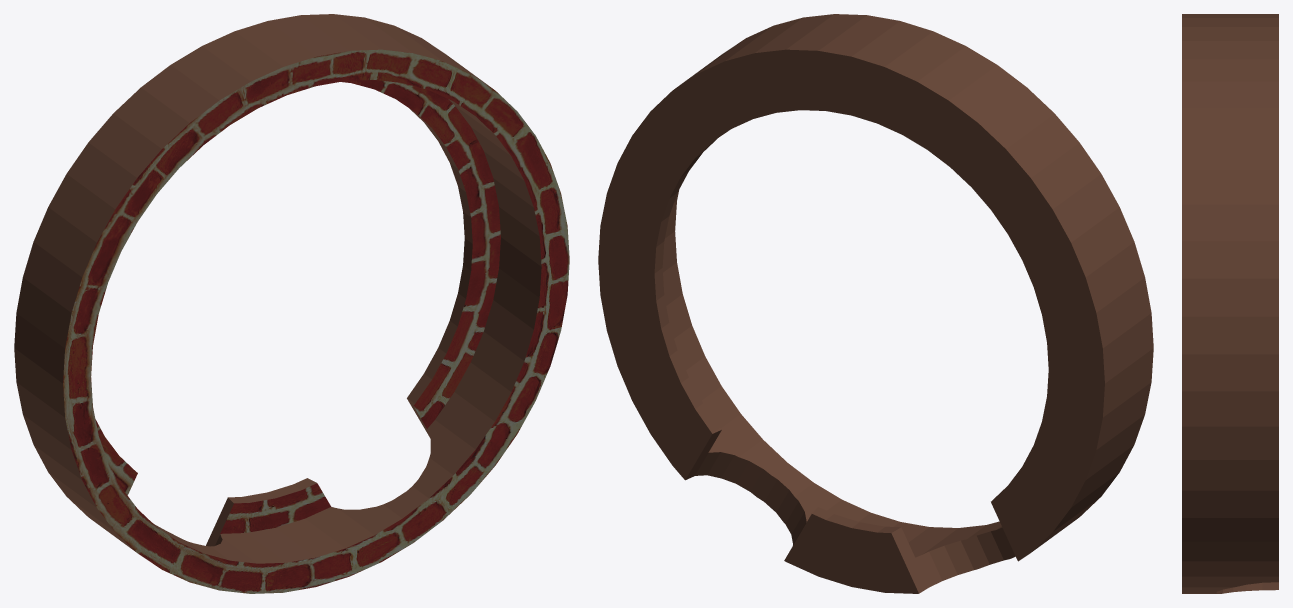
Rendered from pool_001.obj.
3 renders of one model, left to right at view 1: azimuth 30°, elevation 25°; view 2: azimuth 150°, elevation 25°; view 3: azimuth 270°, elevation 25°, orthographic.
Bounding box in the file's own units: 18 × 18 × 3.
1 material, 1 textured.
